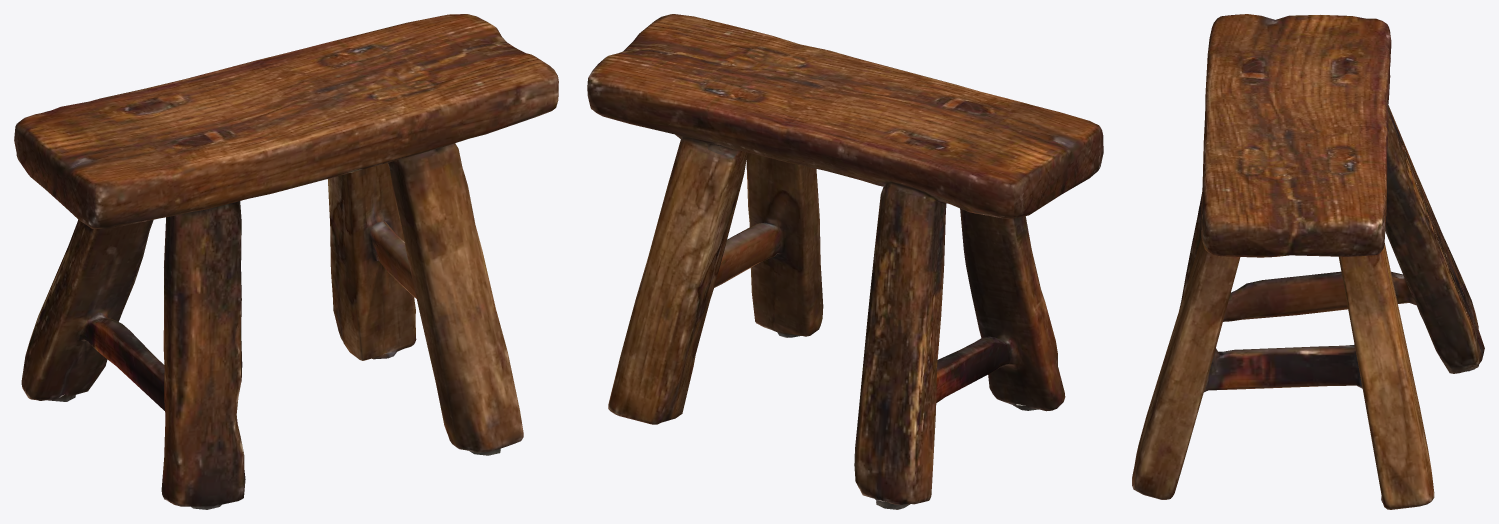
Rendered from wooden_stool_02.glb.
3 renders of one model, left to right at view 1: azimuth 30°, elevation 25°; view 2: azimuth 150°, elevation 25°; view 3: azimuth 270°, elevation 25°, orthographic. The views are drawn at different scales.
Visible parts, largest first — view 1: wooden_stool_02; view 2: wooden_stool_02; view 3: wooden_stool_02.
Boxes of the visible parts, box(x1,y1,x2,y2) form: wooden_stool_02: box(14, 14, 558, 509); wooden_stool_02: box(587, 14, 1103, 509); wooden_stool_02: box(1132, 14, 1484, 509).
Size of the model in its own units: 0.2652 by 0.1818 by 0.1831.
1 material, 1 textured.
